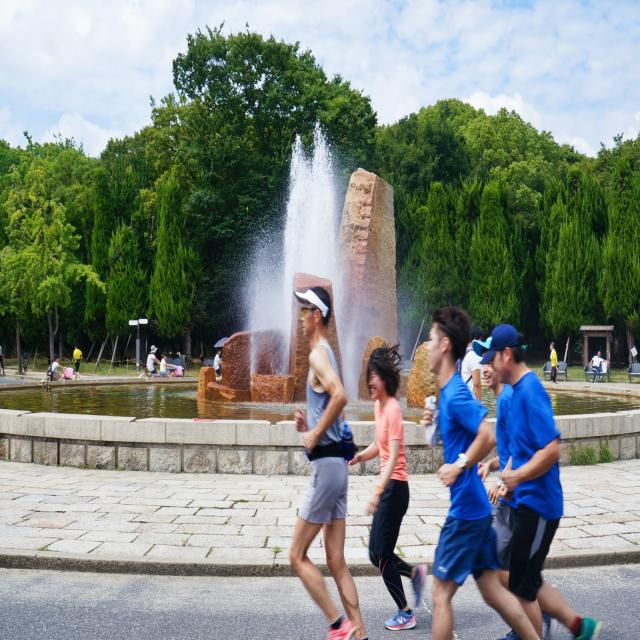adult: (425, 309, 540, 640), (491, 321, 590, 640), (290, 285, 360, 640), (354, 346, 426, 619), (590, 349, 608, 382), (47, 354, 65, 381), (72, 342, 82, 380), (549, 339, 558, 381), (160, 352, 174, 377), (147, 344, 159, 370)
